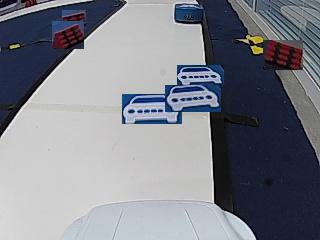prop: (174, 3, 202, 24)
